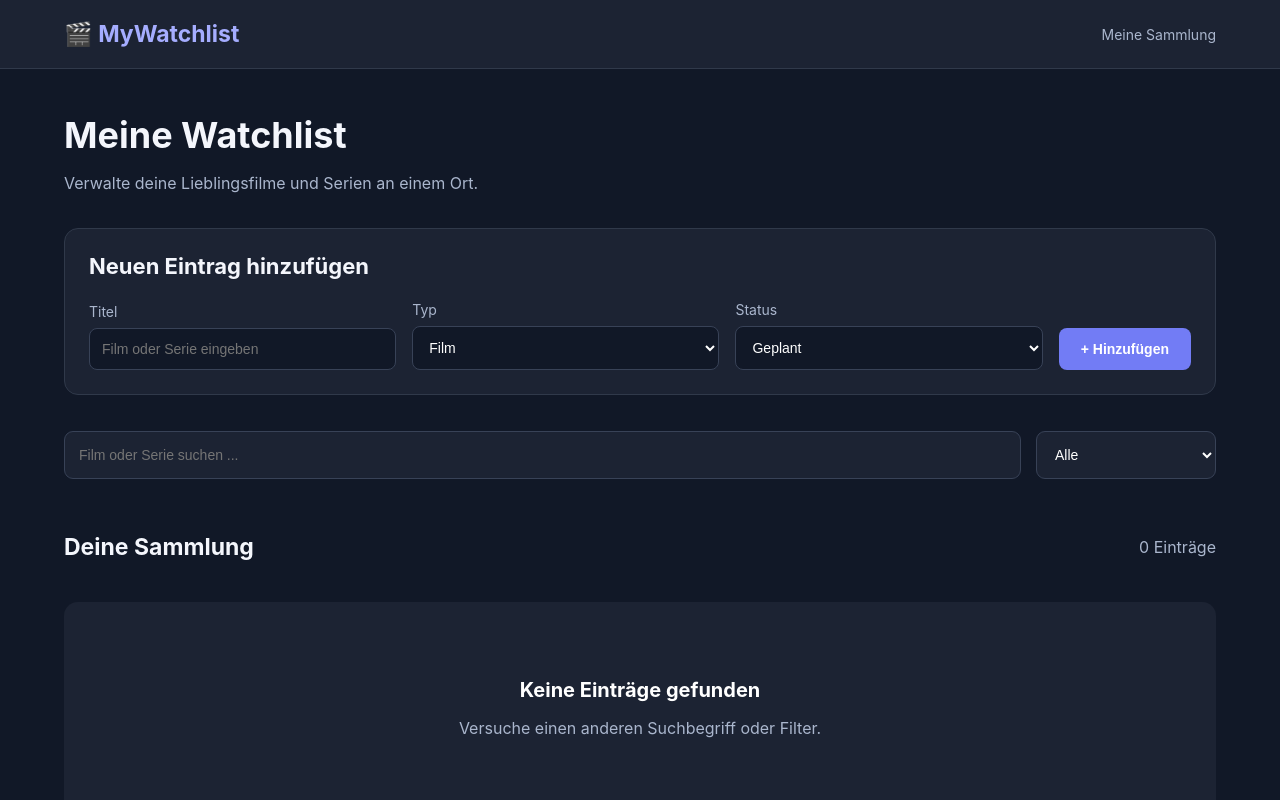
MyWatchlist – Frontend › zeigt bei fehlgeschlagenem POST eine Fehlermeldung und behält die Eingabe
The width and height of the screenshot is (1280, 800).
Step 1. Type "Inception" into the field with id "title" → (243, 349), box x1=89 y1=328 x2=396 y2=370
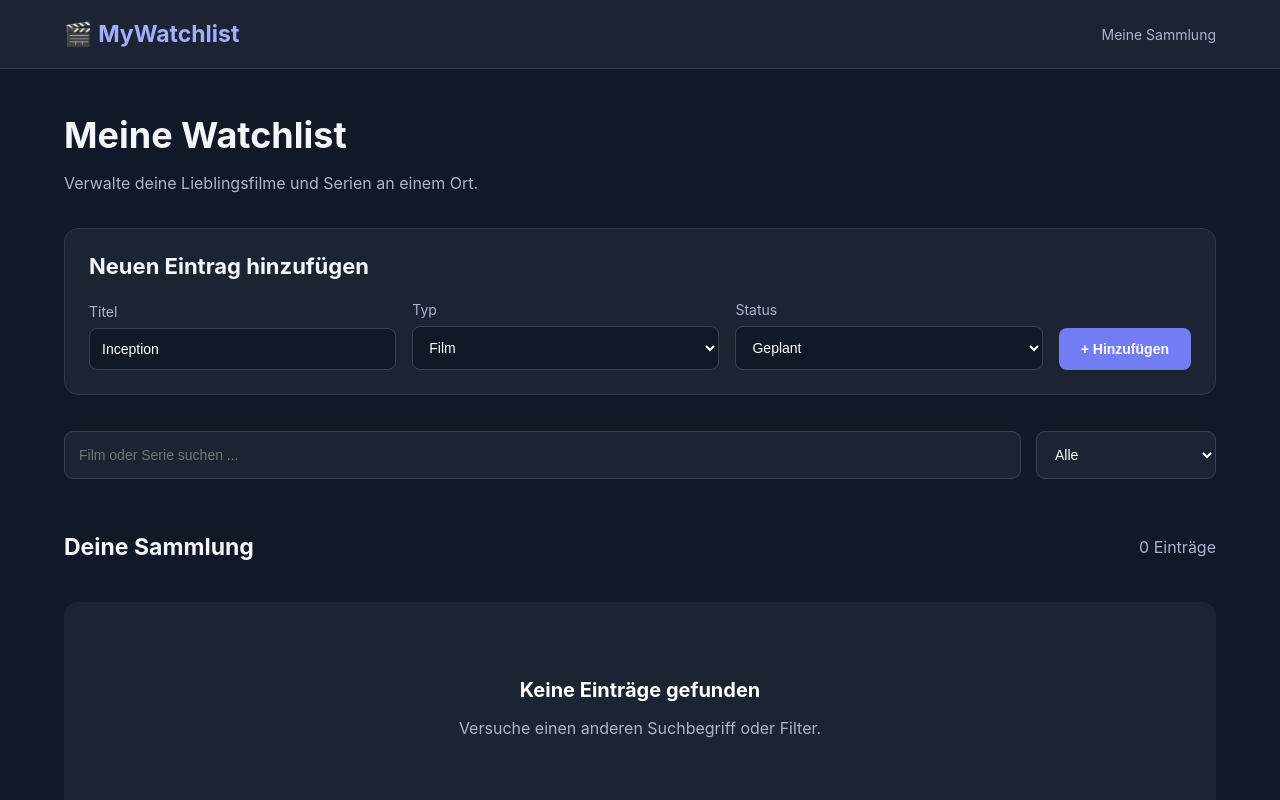
Step 2. Submit the form, box x1=89 y1=301 x2=1191 y2=370
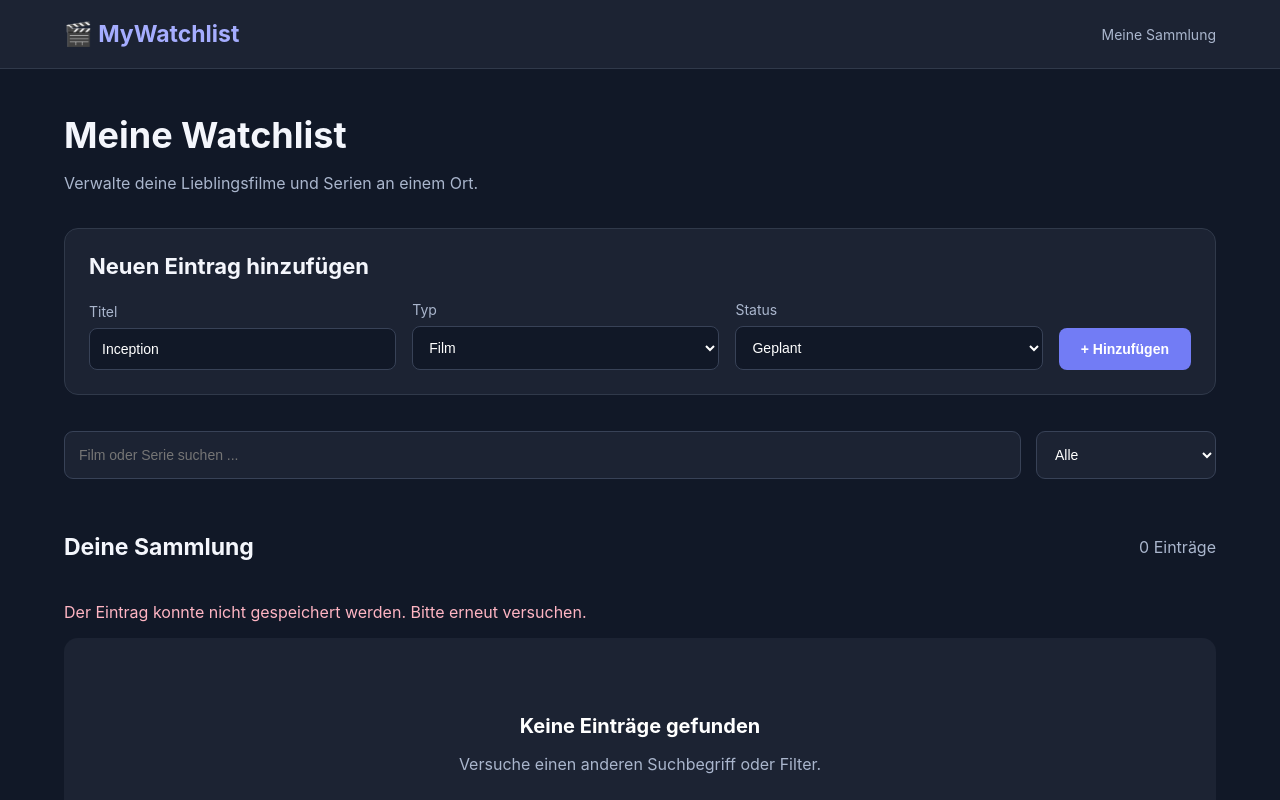
Now the message "Der Eintrag konnte nicht gespeichert werden. Bitte erneut versuchen." is shown, box x1=64 y1=602 x2=586 y2=622
